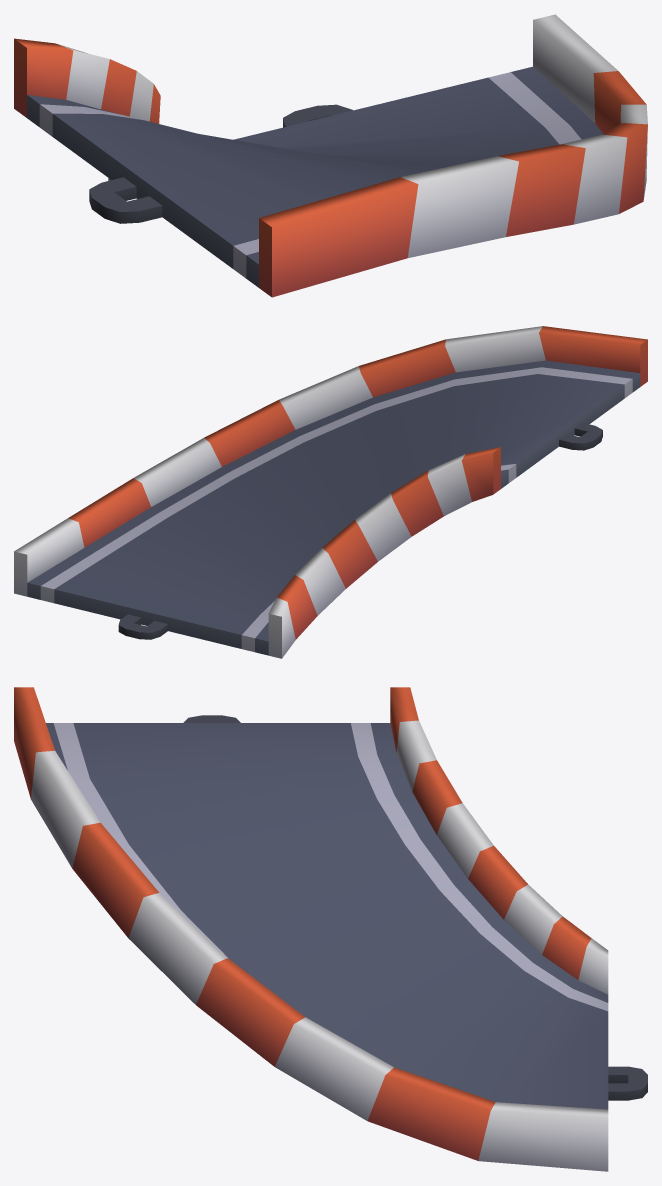
The model's file is track-road-wide-corner-small-ramp.glb.
The picture shows the model from 3 angles, top to bottom: view 1: azimuth 30°, elevation 25°; view 2: azimuth 150°, elevation 25°; view 3: azimuth 270°, elevation 25°; orthographic projection. The views are drawn at different scales.
Visible parts, largest first — view 1: track-road-wide-corner-small-ramp; view 2: track-road-wide-corner-small-ramp; view 3: track-road-wide-corner-small-ramp.
Boxes of the visible parts, left/top/right/bottom form: track-road-wide-corner-small-ramp: left=14, top=14, right=647, bottom=297; track-road-wide-corner-small-ramp: left=14, top=326, right=647, bottom=658; track-road-wide-corner-small-ramp: left=14, top=687, right=647, bottom=1171.
Bounding box in the file's own units: 3.2 × 1.3 × 3.2.
